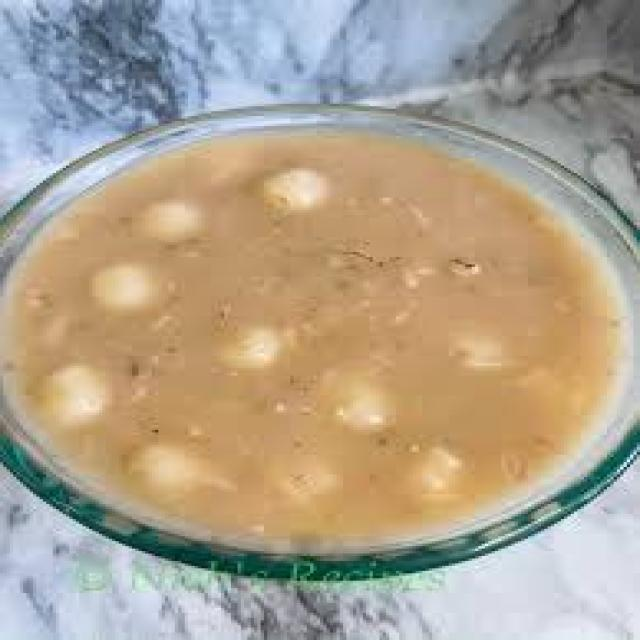paal kolukattai: (24, 125, 640, 558)
